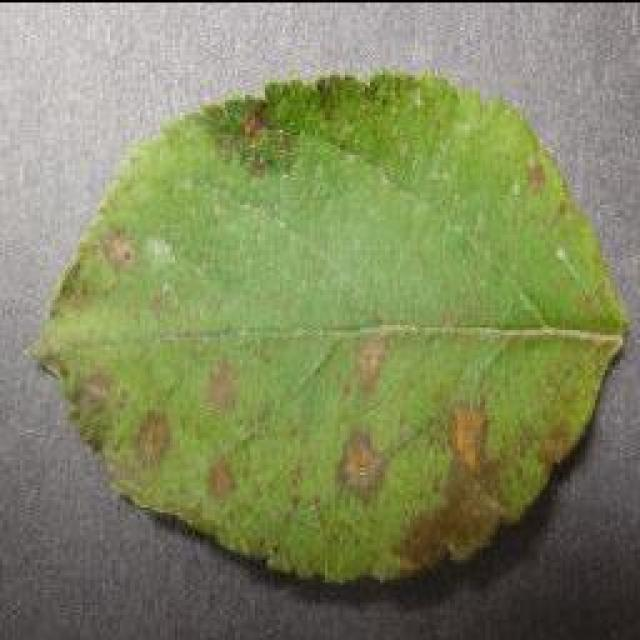apple rust disease: (25, 65, 633, 587)
